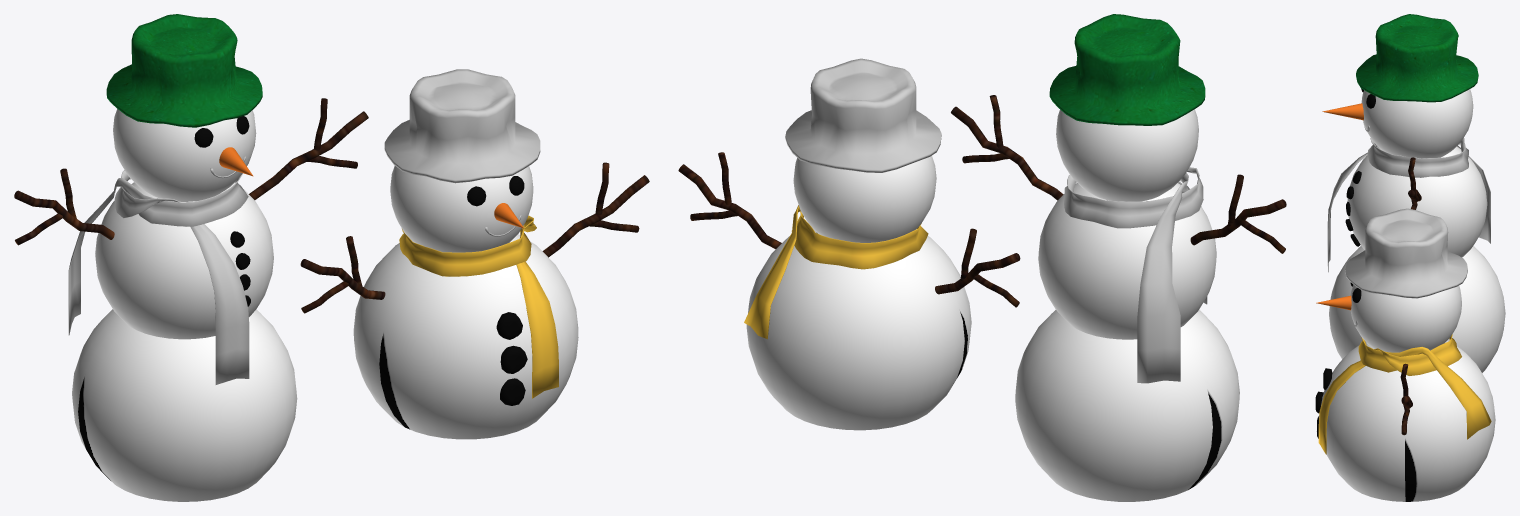
Rendered from snowmans.obj.
3 renders of one model, left to right at view 1: azimuth 30°, elevation 25°; view 2: azimuth 150°, elevation 25°; view 3: azimuth 270°, elevation 25°, orthographic. The views are drawn at different scales.
Visible parts, largest first — view 1: snowman2_Sphere_004, snowman1_Sphere_001; view 2: snowman2_Sphere_004, snowman1_Sphere_001; view 3: snowman1_Sphere_001, snowman2_Sphere_004, Cone001, Cone002.
Part boxes in pixels (<box>): snowman2_Sphere_004: <box>14,14,368,501</box>; snowman1_Sphere_001: <box>300,69,649,439</box>; snowman2_Sphere_004: <box>951,14,1286,501</box>; snowman1_Sphere_001: <box>678,58,1020,430</box>; snowman1_Sphere_001: <box>1315,208,1495,501</box>; snowman2_Sphere_004: <box>1327,14,1505,372</box>; Cone001: <box>1322,103,1363,120</box>; Cone002: <box>1316,295,1351,310</box>.
Bounding box in the file's own units: 2.61 × 1.74 × 0.8843.
